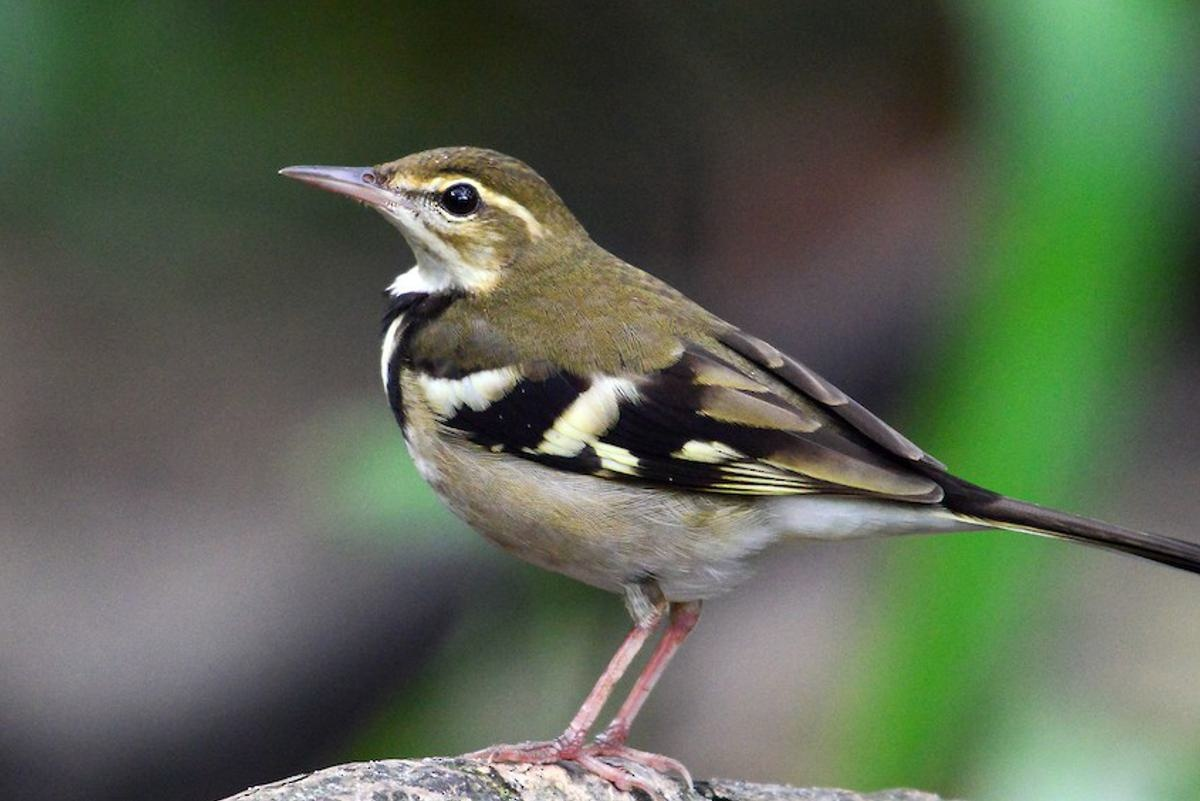wagtail: (280, 135, 1101, 788)
